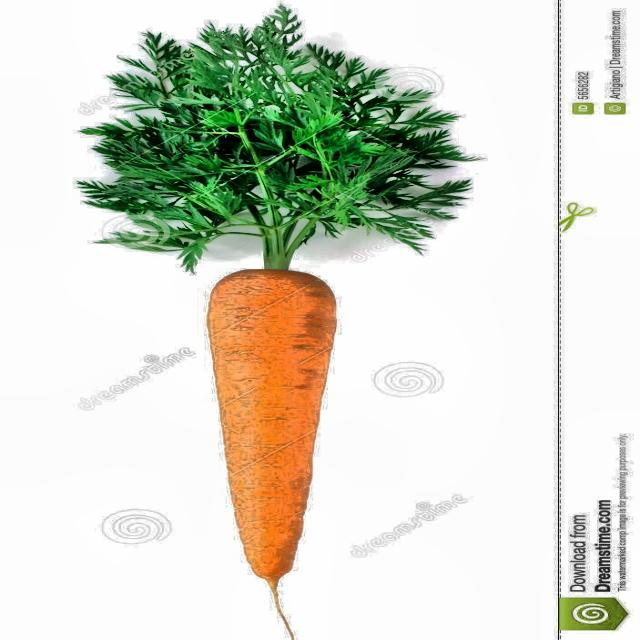carrot: (73, 20, 462, 594)
